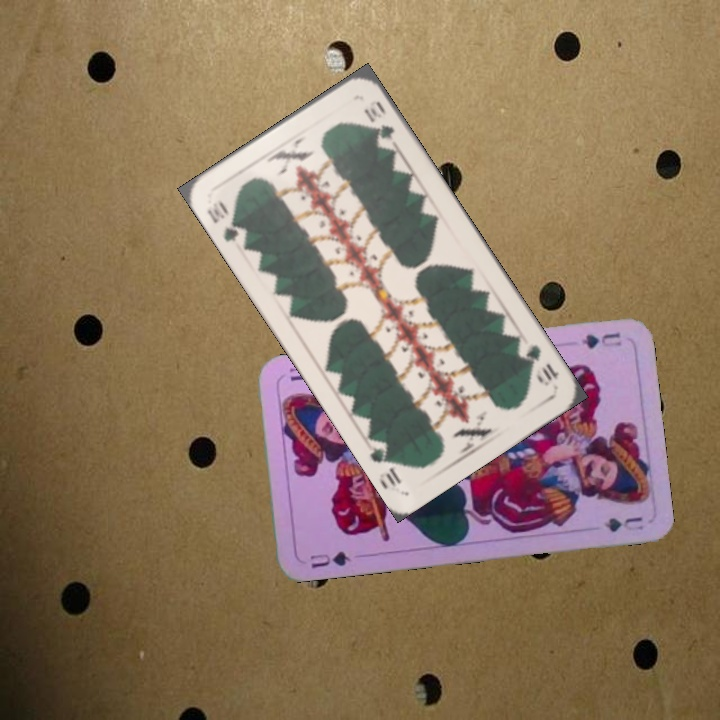G10: (202, 197, 249, 245), (519, 340, 563, 389)
GU: (306, 547, 353, 571), (577, 329, 624, 351)
